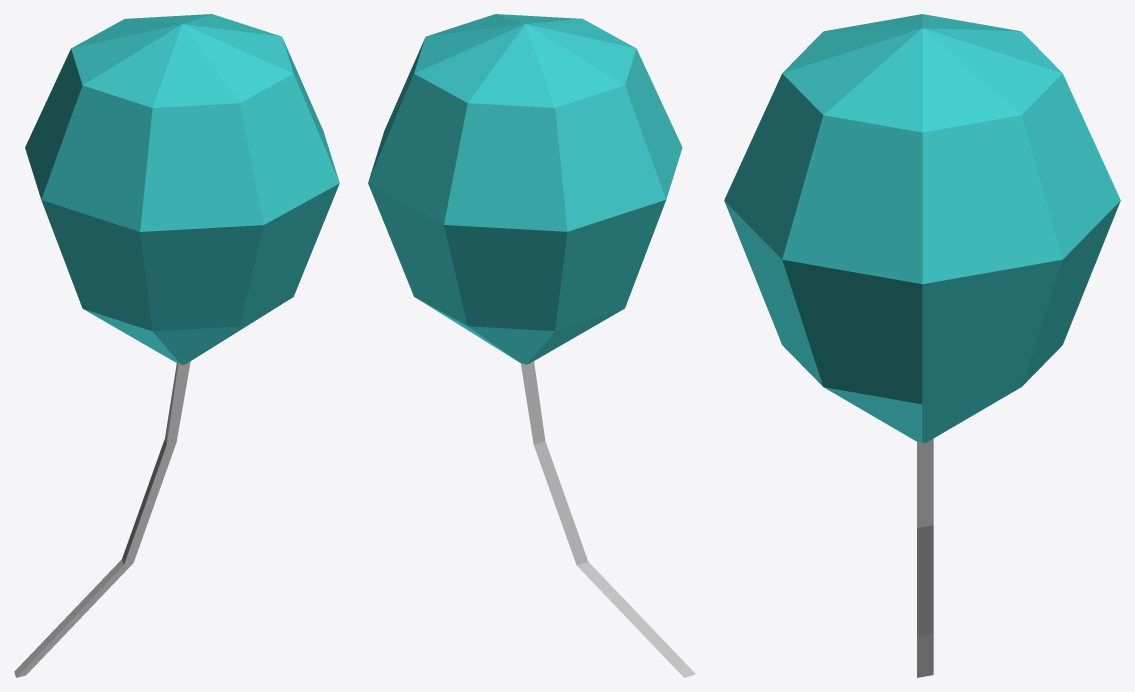
Rendered from baloonblue.fbx.
3 views of the same model, side by side, from view 1: azimuth 30°, elevation 25°; view 2: azimuth 150°, elevation 25°; view 3: azimuth 270°, elevation 25° (orthographic). The views are drawn at different scales.
Parts seen in each view (by area): view 1: 球, 円柱; view 2: 球, 円柱; view 3: 球, 円柱.
Part boxes in pixels (box(x1,y1,x2,y2)): 球: box(25, 14, 339, 364); 円柱: box(14, 361, 190, 677); 球: box(368, 14, 682, 364); 円柱: box(520, 361, 695, 677); 球: box(724, 14, 1120, 443); 円柱: box(917, 438, 933, 677).
Size of the model in its own units: 219 by 414 by 200.
